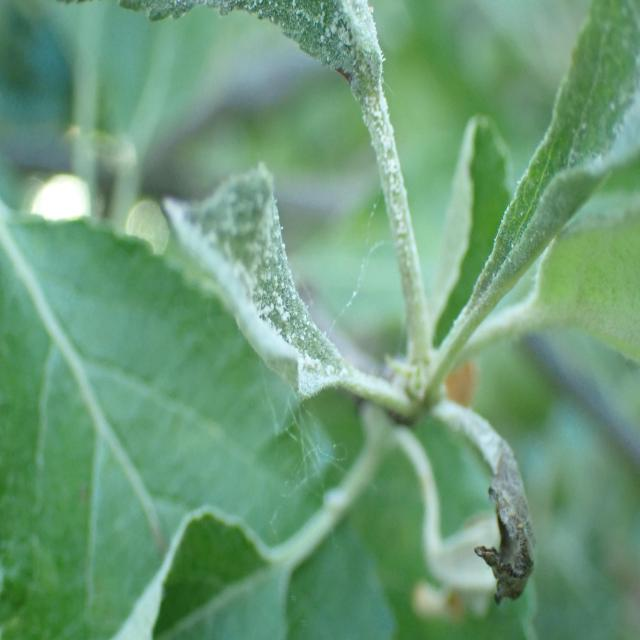Powdery_mildew: (112, 0, 411, 252), (455, 0, 640, 394), (198, 123, 344, 438)
